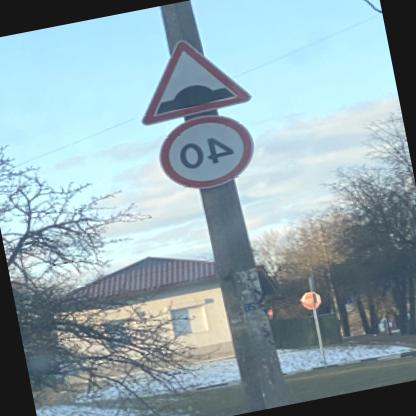stop: (300, 288, 322, 309)
